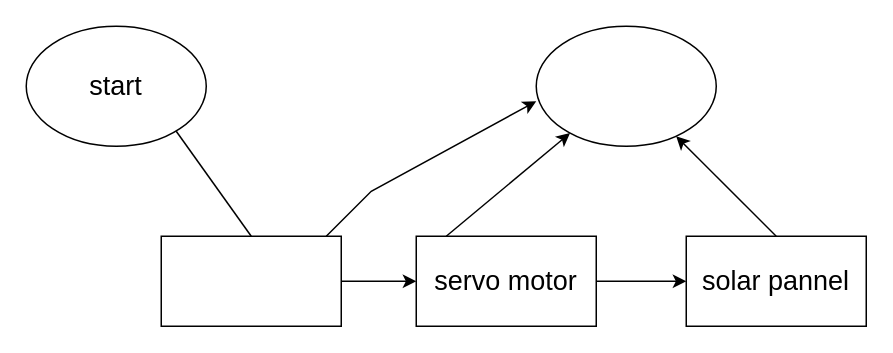
Some shapes in this 893 by 353 pixel diagram are drawn without their labels. The centre of each missing label's shape, as x and y in pixels:
"end" goes at (x=625, y=85).
"ldr" goes at (x=250, y=280).
